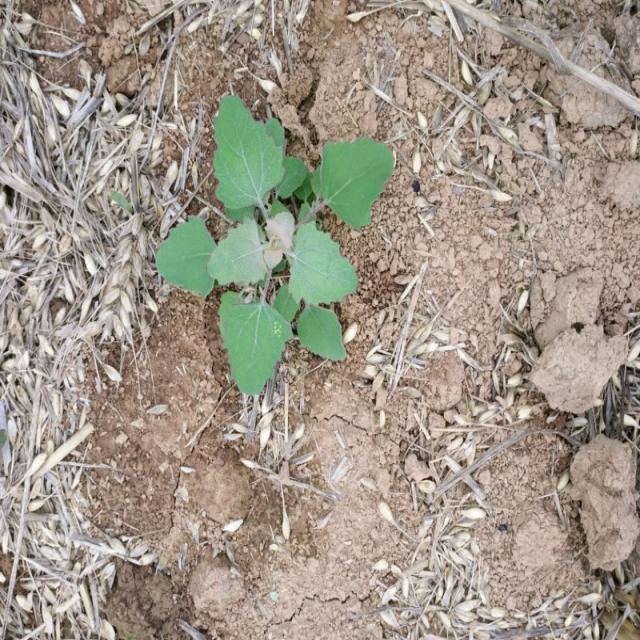ca: (159, 91, 398, 400)
